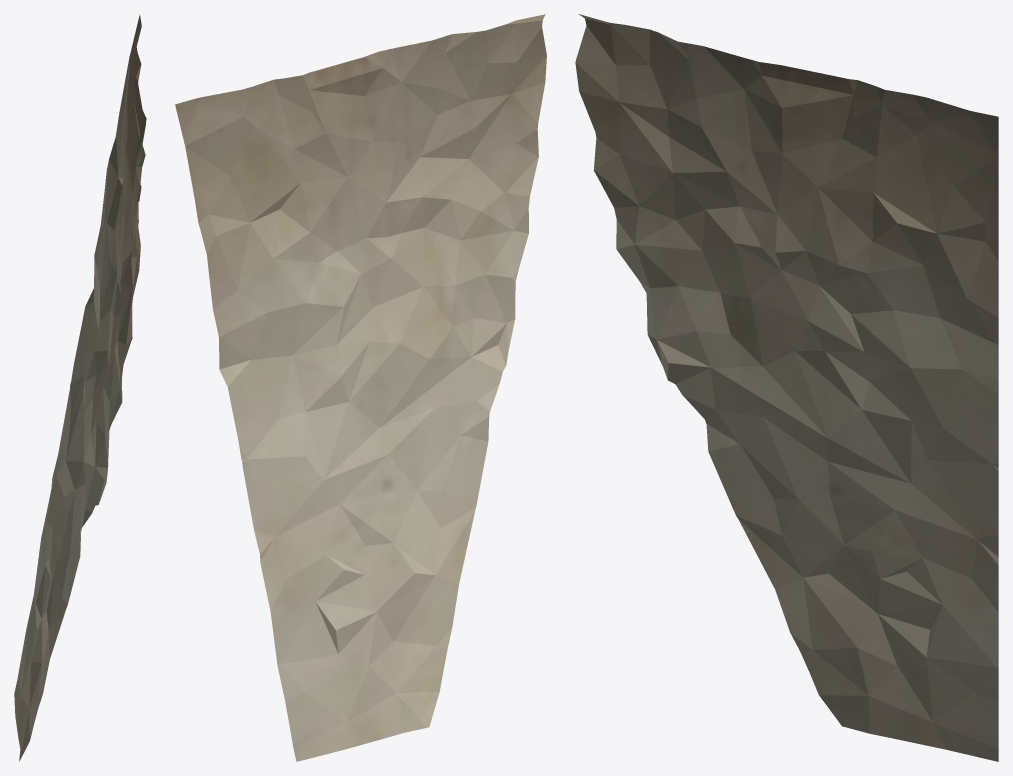
3 views of the same model, side by side, from view 1: azimuth 30°, elevation 25°; view 2: azimuth 150°, elevation 25°; view 3: azimuth 270°, elevation 25° (orthographic). The views are drawn at different scales.
Bounding box in the file's own units: 0.5178 × 1.67 × 0.9015.
1 material, 1 textured.
